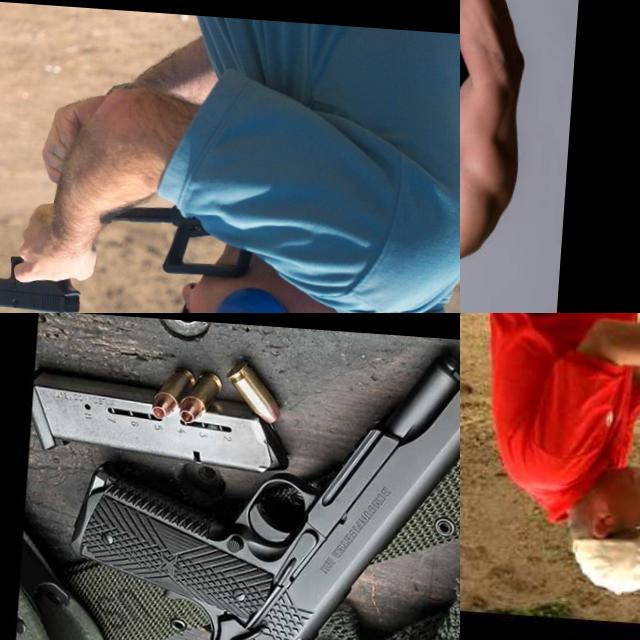handgun: (56, 325, 460, 640), (0, 251, 84, 313), (460, 0, 507, 65)
